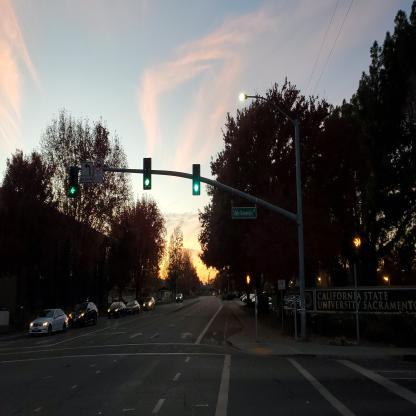green: (192, 165, 200, 194), (144, 158, 151, 190)
left-green: (69, 166, 77, 196)
